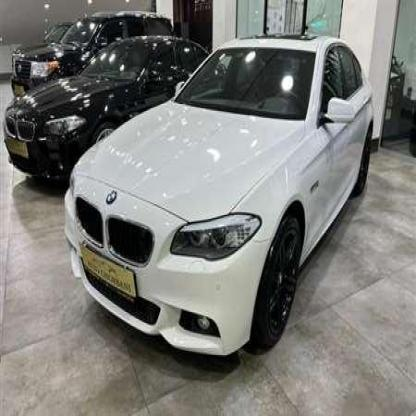Car: (65, 34, 375, 358), (0, 34, 210, 198), (5, 0, 173, 98)
